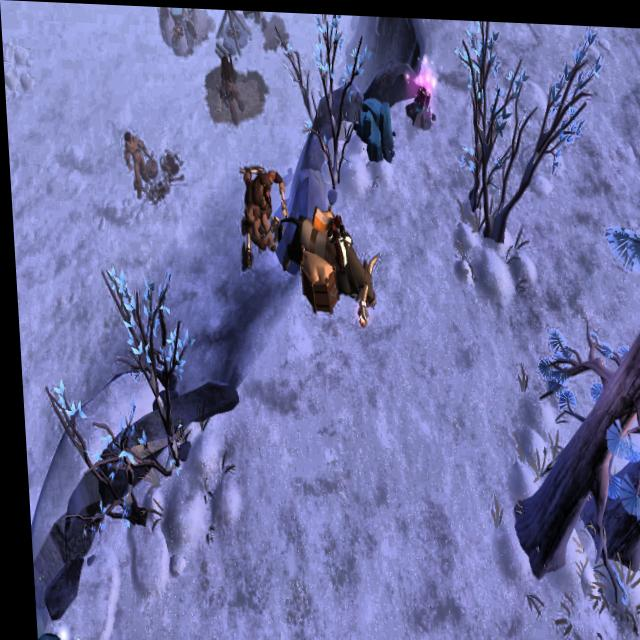enemy_factionKeeper: (236, 158, 285, 261), (217, 53, 244, 127), (122, 124, 149, 185)
ore_t4: (409, 79, 436, 114)
rock_t4: (348, 95, 399, 154)
